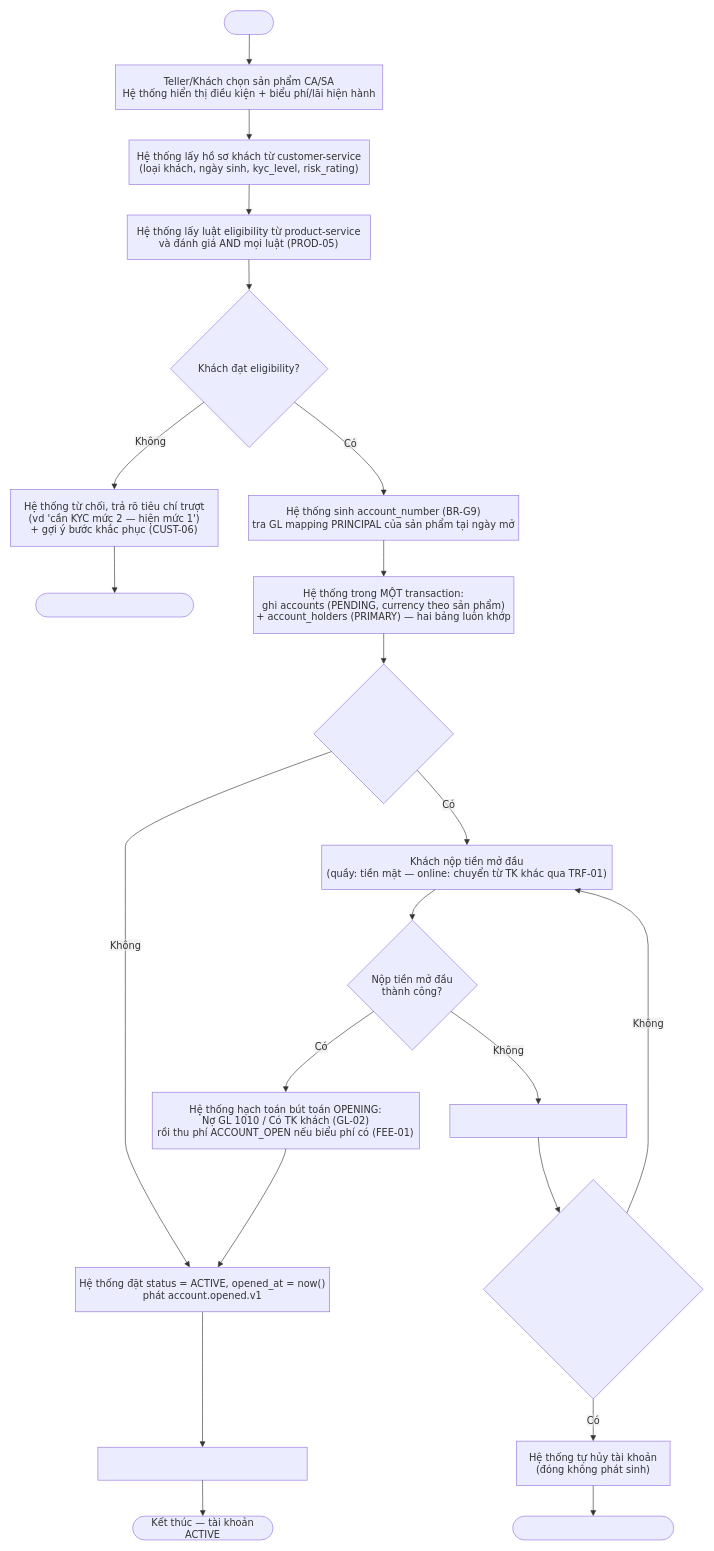
The diagram is 714 pixels wide and 1551 high, and some of its shapes have lost their labels. Here are the shapes that lost their labels. From the top down, the box of each, then its label:
(224, 10, 274, 34): Bắt đầu
(35, 593, 194, 617): Kết thúc — từ chối, không tạo gì
(313, 663, 454, 804): Sản phẩm yêu cầu số dư mở đầu?
(449, 1104, 627, 1137): Tài khoản giữ PENDING chờ nộp
(483, 1179, 703, 1399): Job dọn: PENDING quá N ngày (mặc định 30)?
(97, 1447, 307, 1480): Hệ thống thông báo khách số tài khoản
(512, 1516, 674, 1540): Kết thúc — hủy PENDING quá hạn
